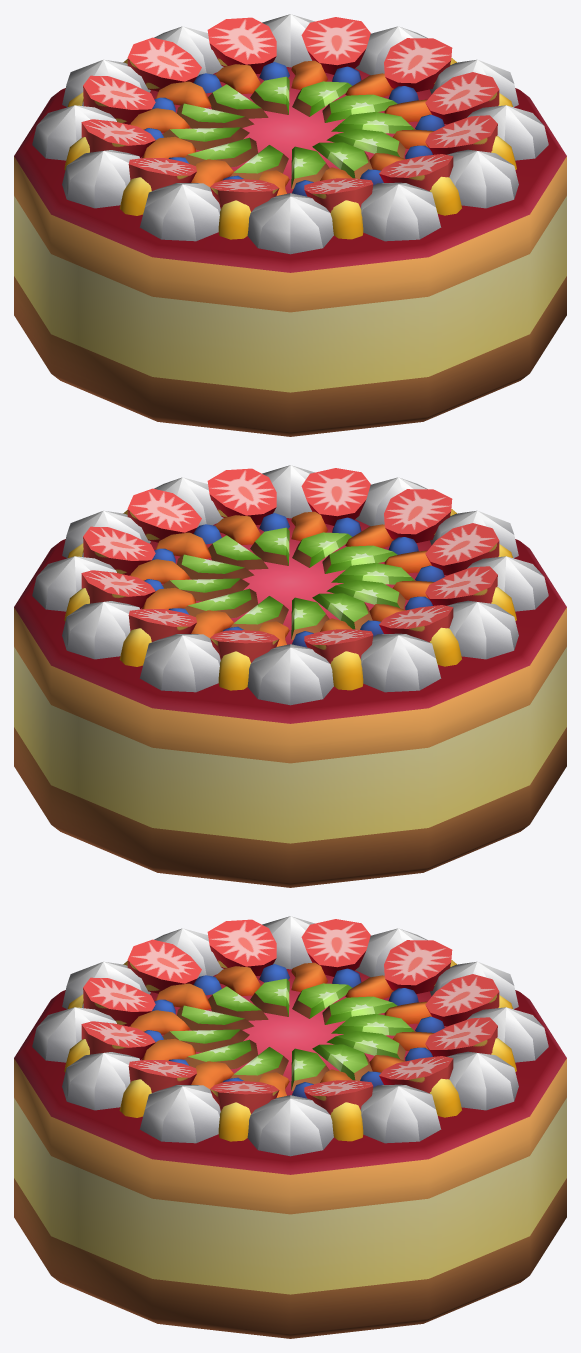
File: m_FruitCake02.fbx
The picture shows the model from 3 angles, top to bottom: view 1: azimuth 30°, elevation 25°; view 2: azimuth 150°, elevation 25°; view 3: azimuth 270°, elevation 25°; orthographic projection.
Parts seen in each view (by area): view 1: m_FruitCake01.001; view 2: m_FruitCake01.001; view 3: m_FruitCake01.001.
Part boxes in pixels (<box>): m_FruitCake01.001: <box>14,14,566,436</box>; m_FruitCake01.001: <box>14,465,566,887</box>; m_FruitCake01.001: <box>14,916,566,1338</box>.
Bounding box in the file's own units: 28 × 12.29 × 28.
